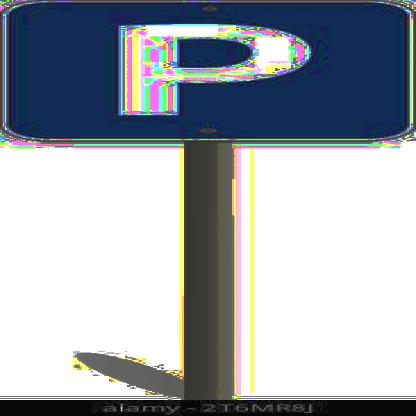Parking: (0, 0, 411, 138)
